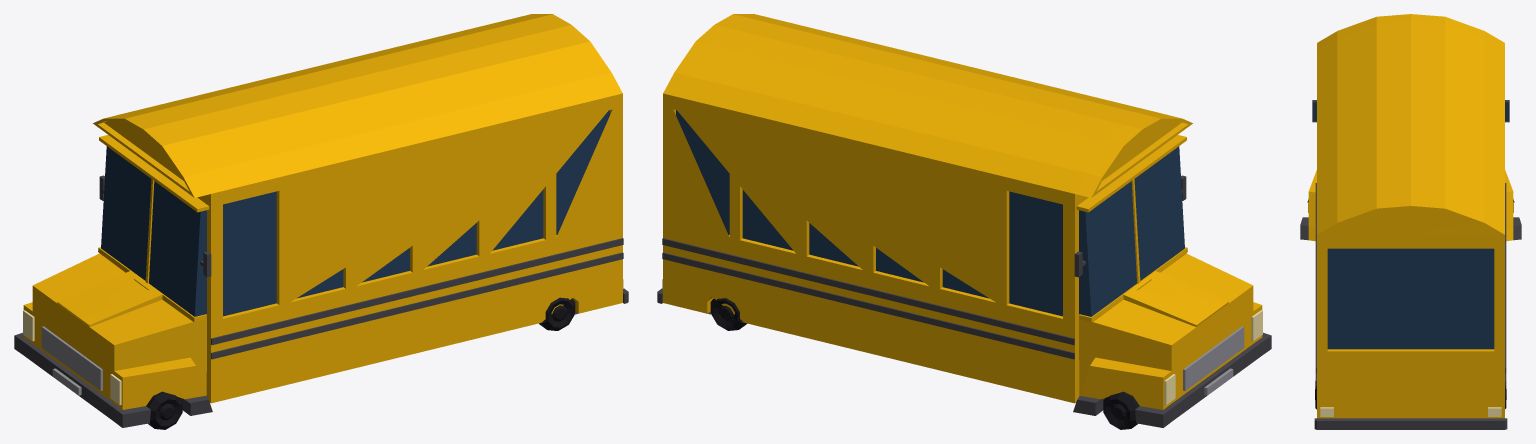
File: transport-SchoolBus.glb
3 renders of one model, left to right at view 1: azimuth 30°, elevation 25°; view 2: azimuth 150°, elevation 25°; view 3: azimuth 270°, elevation 25°, orthographic. The views are drawn at different scales.
Parts seen in each view (by area): view 1: Yellow, Windows, Bumper, Wheel, Details, Lights; view 2: Yellow, Windows, Bumper, Wheel, Details, Lights; view 3: Yellow, Windows, Bumper, Lights.
Part boxes in pixels (left/top/right/bottom): Yellow: left=23, top=14, right=622, bottom=409; Windows: left=101, top=110, right=609, bottom=316; Bumper: left=14, top=175, right=628, bottom=427; Wheel: left=146, top=297, right=575, bottom=429; Details: left=41, top=326, right=102, bottom=395; Lights: left=23, top=279, right=623, bottom=405; Yellow: left=663, top=14, right=1262, bottom=409; Windows: left=676, top=110, right=1184, bottom=316; Bumper: left=657, top=175, right=1271, bottom=427; Wheel: left=710, top=298, right=1139, bottom=429; Details: left=1183, top=326, right=1244, bottom=395; Lights: left=662, top=279, right=1262, bottom=405; Yellow: left=1308, top=14, right=1513, bottom=418; Windows: left=1313, top=103, right=1508, bottom=349; Bumper: left=1300, top=100, right=1521, bottom=429; Lights: left=1320, top=407, right=1501, bottom=416.
Size of the model in its own units: 4.61 by 2.19 by 1.88.
